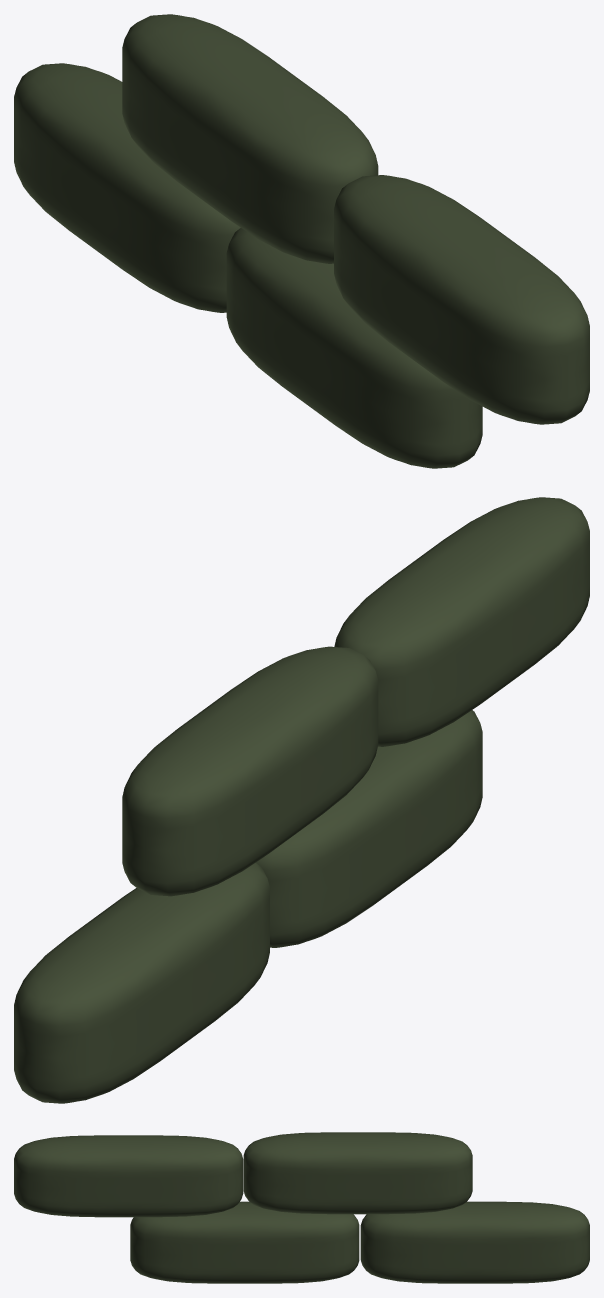
File: Wall 1.fbx
The picture shows the model from 3 angles, top to bottom: view 1: azimuth 30°, elevation 25°; view 2: azimuth 150°, elevation 25°; view 3: azimuth 270°, elevation 25°; orthographic projection. The views are drawn at different scales.
Visible parts, largest first — view 1: Cube; view 2: Cube; view 3: Cube.
Boxes of the visible parts, x1=… form: Cube: x1=14, y1=14, x2=589, y2=468; Cube: x1=14, y1=497, x2=589, y2=1103; Cube: x1=14, y1=1132, x2=589, y2=1283.
Bounding box in the file's own units: 81.86 × 191 × 722.
